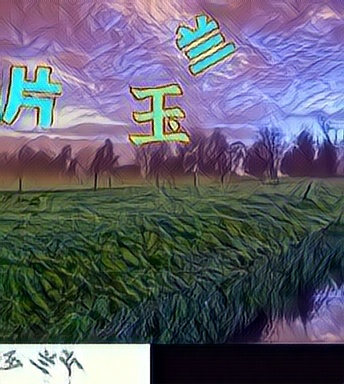C0BC: (172, 10, 236, 77)
C6AC: (1, 64, 65, 131)
D3F1: (128, 79, 192, 146)
